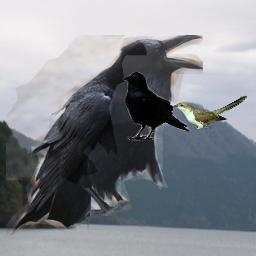Crow: (6, 35, 203, 238), (121, 71, 191, 141)
Cuckoo: (172, 95, 247, 129)
